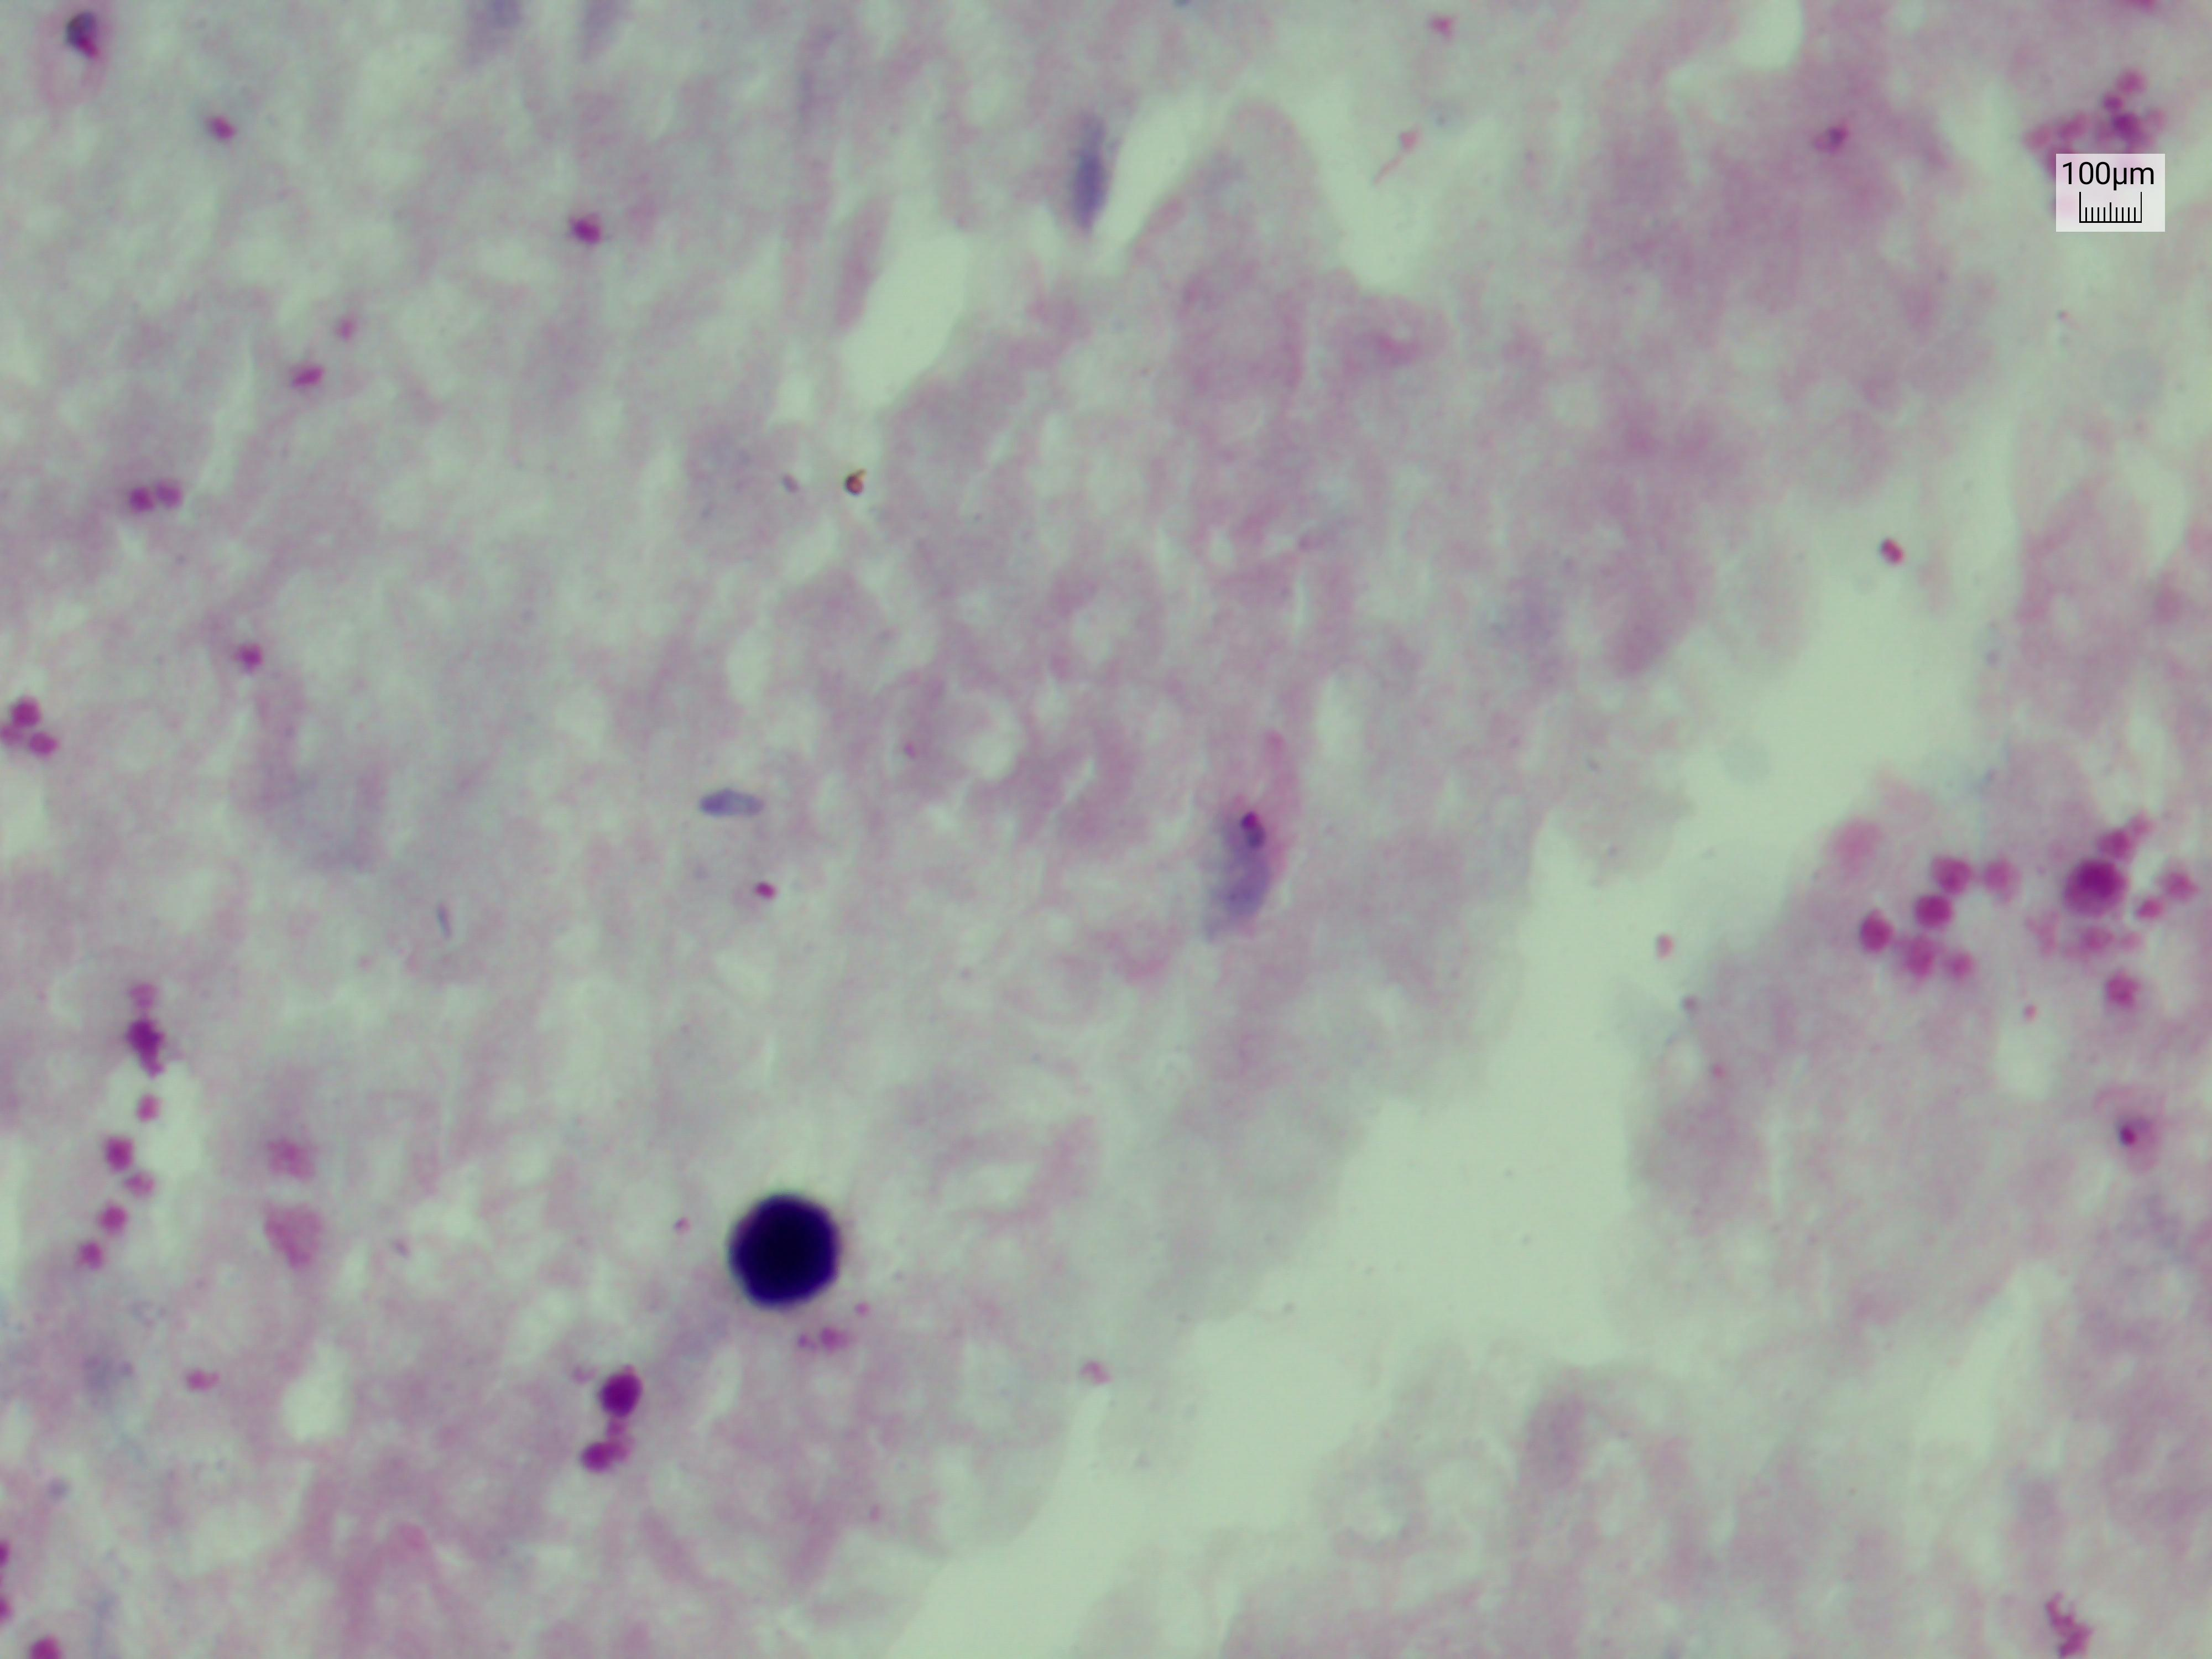p.falciparum: (1794, 87, 1865, 200)
p.vivax: (1167, 702, 1320, 986), (683, 744, 805, 931), (10, 0, 139, 98), (2109, 1082, 2160, 1209)
